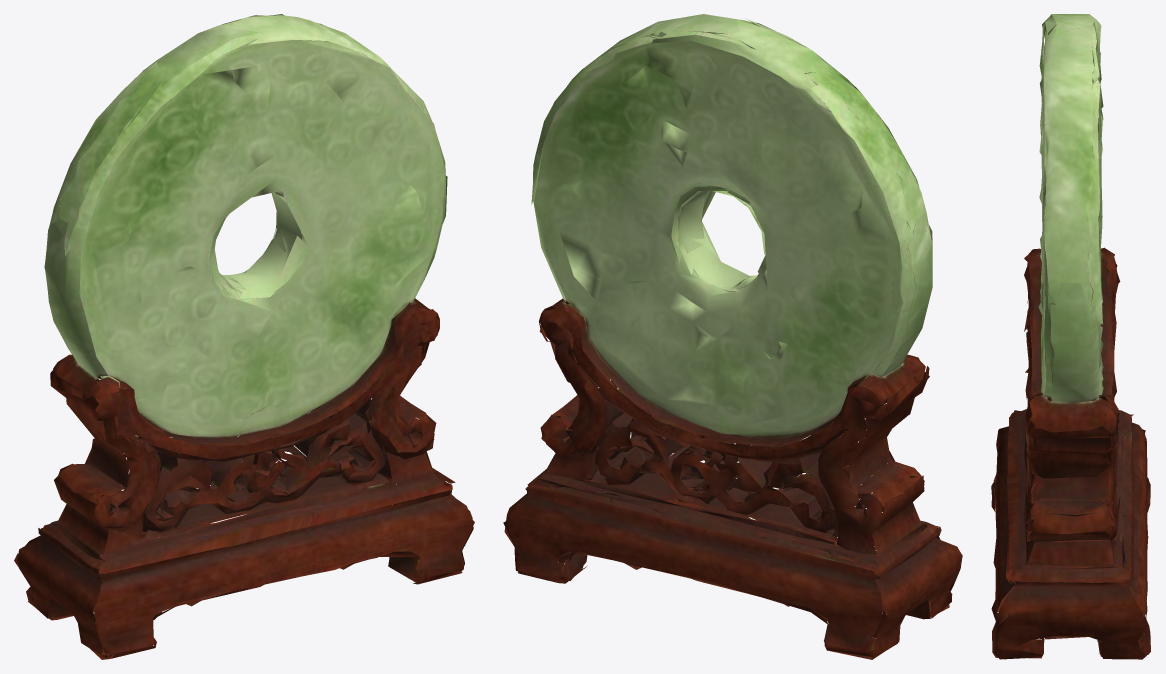
File: B5-jade-bi.glb
3 renders of one model, left to right at view 1: azimuth 30°, elevation 25°; view 2: azimuth 150°, elevation 25°; view 3: azimuth 270°, elevation 25°, orthographic. The views are drawn at different scales.
Visible parts, largest first — view 1: Prop_B5; view 2: Prop_B5; view 3: Prop_B5.
Boxes of the visible parts, x1,y1,x2,y2 form: Prop_B5: (14, 14, 474, 659); Prop_B5: (503, 14, 962, 659); Prop_B5: (991, 14, 1150, 659).
Bounding box in the file's own units: 0.7176 × 1 × 0.2681.
1 material, 1 textured.
